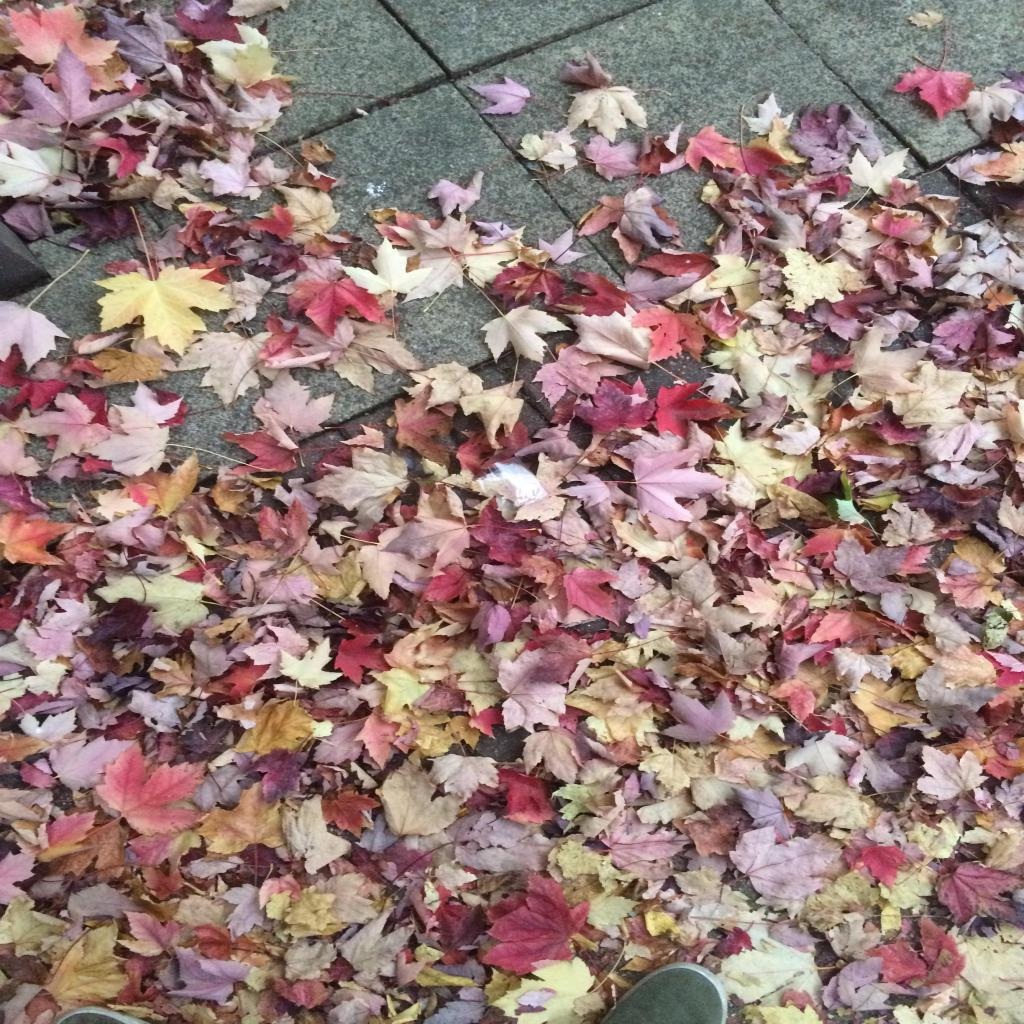Plastic film: (475, 456, 551, 513)
